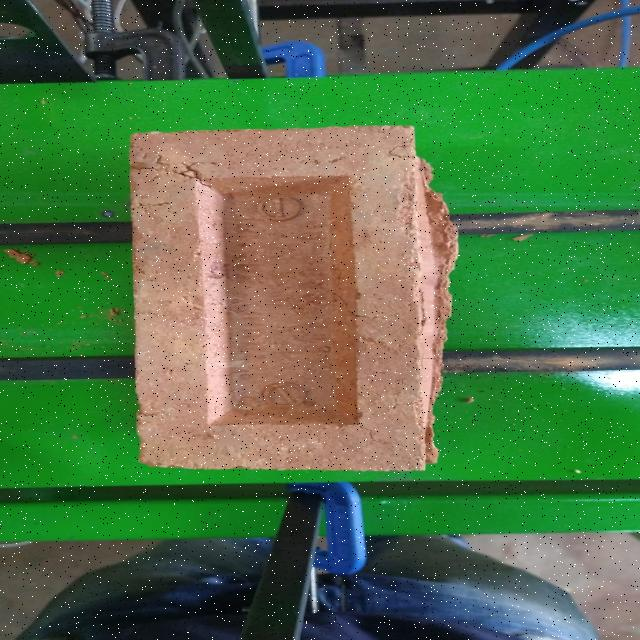bricks_ruin: (131, 125, 458, 473)
